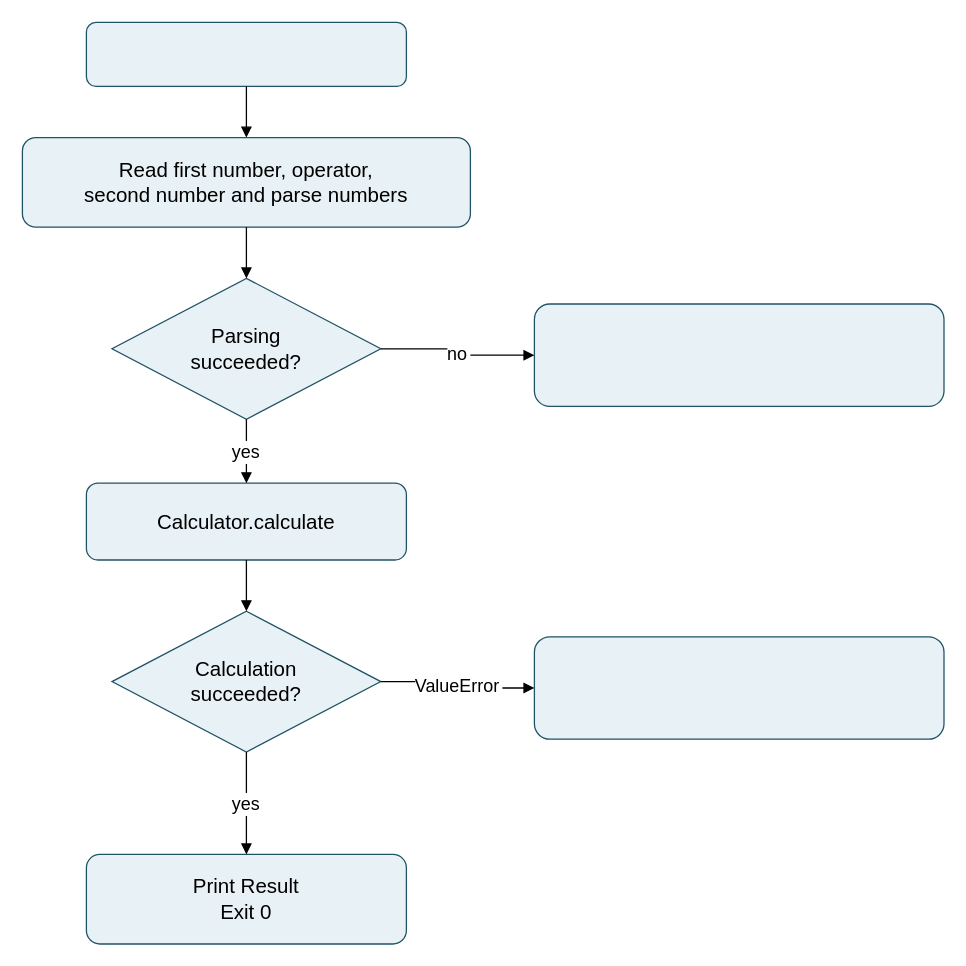
The diagram is 966 pixels wide and 966 high, and some of its shapes have lost their labels. The shapes that lost their labels are listed below. From the top down, each one's centre as x and y in pixels, then its label:
At (x=245, y=53): "Start console".
At (x=738, y=354): "Print Error: Invalid number Exit 1".
At (x=738, y=687): "Print Error: domain message Exit 1".
